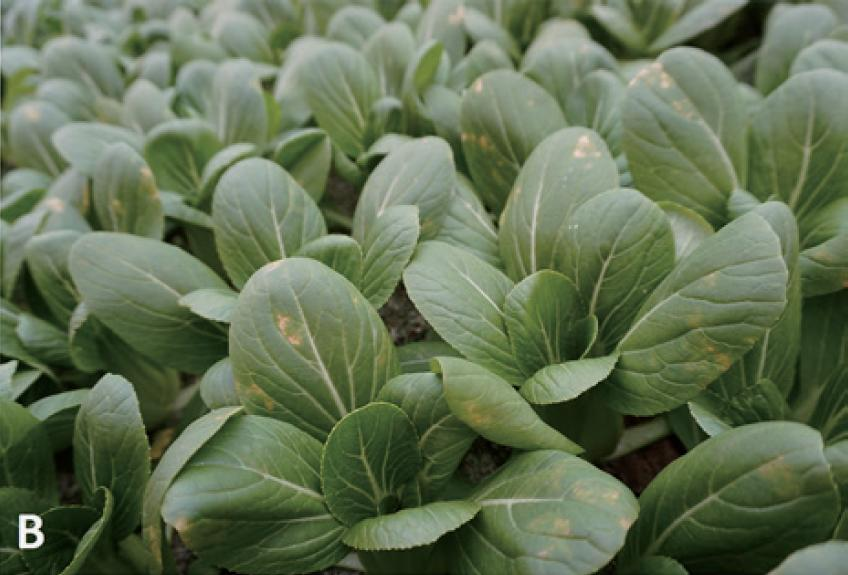Bok-Choy-Diseased: (613, 213, 793, 415), (460, 441, 651, 575), (658, 425, 839, 563), (222, 265, 381, 415), (439, 47, 570, 211)
